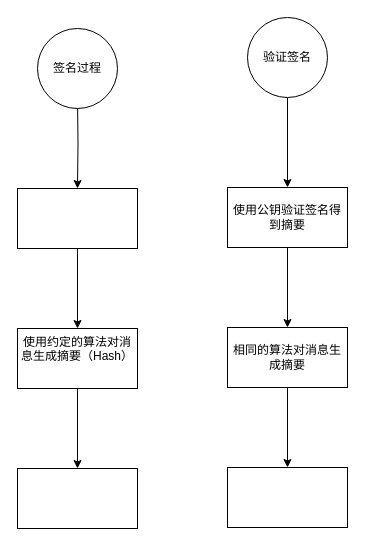
This 365x546 diagram has some shape labels left out. Each missing label, with the centre of its shape:
"使用私钥对摘要进行签名" goes at point (77, 498).
"比较摘要是否相同" goes at point (287, 497).
"生成公私秘钥对" goes at point (77, 218).
